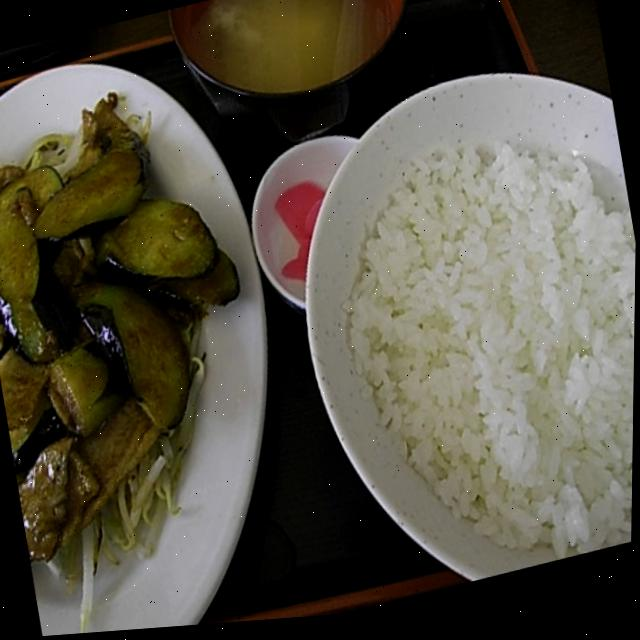鸡蛋料理: (0, 57, 291, 572)
